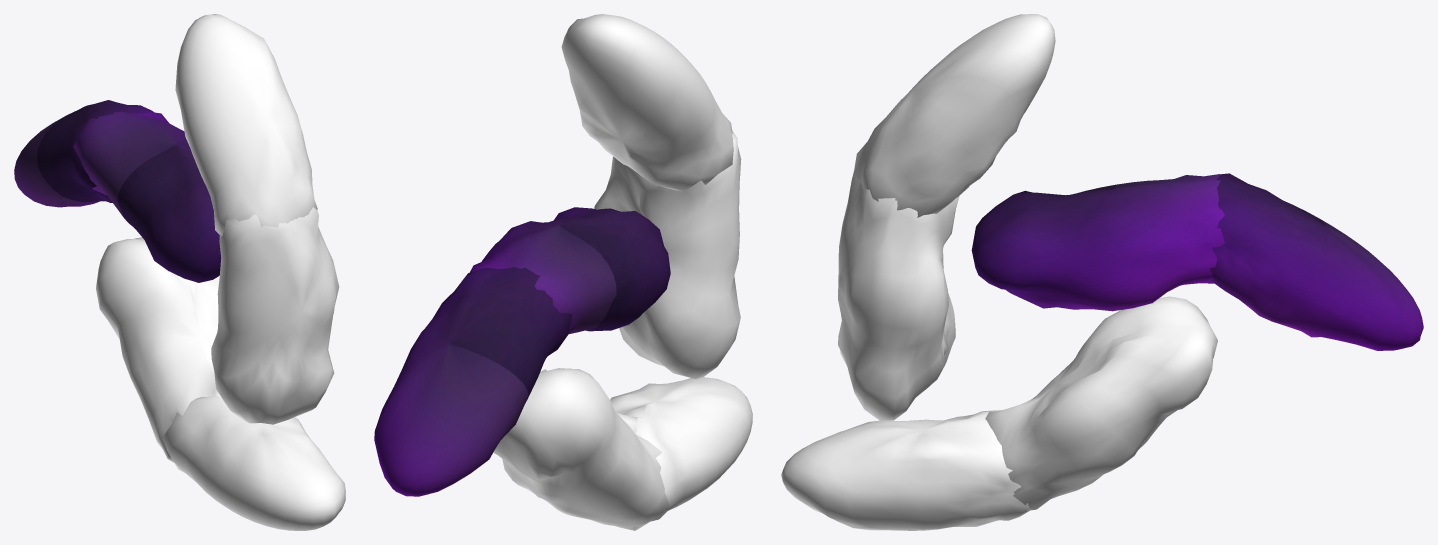
The model's file is Morado.glb.
3 renders of one model, left to right at view 1: azimuth 30°, elevation 25°; view 2: azimuth 150°, elevation 25°; view 3: azimuth 270°, elevation 25°, orthographic. The views are drawn at different scales.
Visible parts, largest first — view 1: Esfera.002, Esfera.001, Esfera.004; view 2: Esfera.004, Esfera.002, Esfera.001; view 3: Esfera.004, Esfera.001, Esfera.002.
Boxes of the visible parts, left/top/right/bottom form: Esfera.002: left=175, top=14, right=339, bottom=424; Esfera.001: left=96, top=237, right=345, bottom=530; Esfera.004: left=14, top=100, right=221, bottom=282; Esfera.004: left=374, top=207, right=670, bottom=496; Esfera.002: left=561, top=14, right=741, bottom=378; Esfera.001: left=493, top=368, right=752, bottom=530; Esfera.004: left=971, top=173, right=1423, bottom=350; Esfera.001: left=781, top=296, right=1217, bottom=530; Esfera.002: left=838, top=14, right=1055, bottom=420.
Size of the model in its own units: 2.33 by 8.67 by 9.98.
3 materials, 1 textured.
